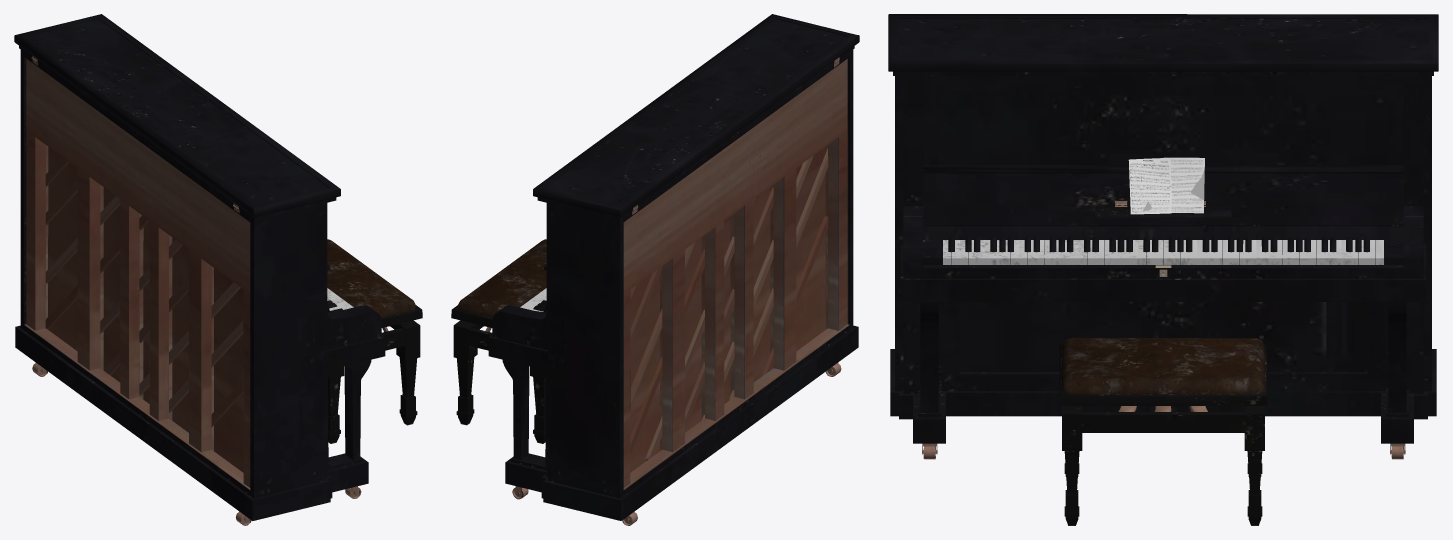
Rendered from pian_dusty_old_piano.glb.
3 renders of one model, left to right at view 1: azimuth 30°, elevation 25°; view 2: azimuth 150°, elevation 25°; view 3: azimuth 270°, elevation 25°, orthographic. The views are drawn at different scales.
Visible parts, largest first — view 1: defaultMaterial; view 2: defaultMaterial; view 3: defaultMaterial.
Boxes of the visible parts, x1,y1,x2,y2 form: defaultMaterial: (14, 14, 422, 525); defaultMaterial: (451, 14, 859, 525); defaultMaterial: (888, 14, 1438, 525).
Bounding box in the file's own units: 1.01 × 1.3 × 1.71.
3 materials, 3 textured.
